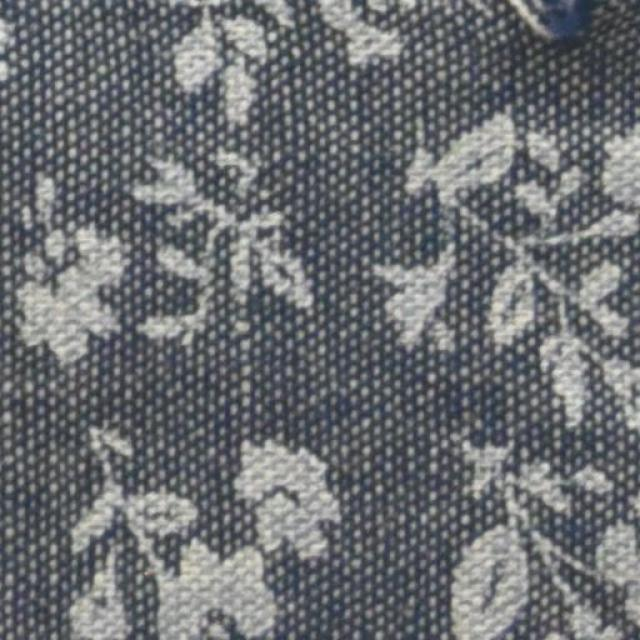Snag: (524, 0, 597, 61)
